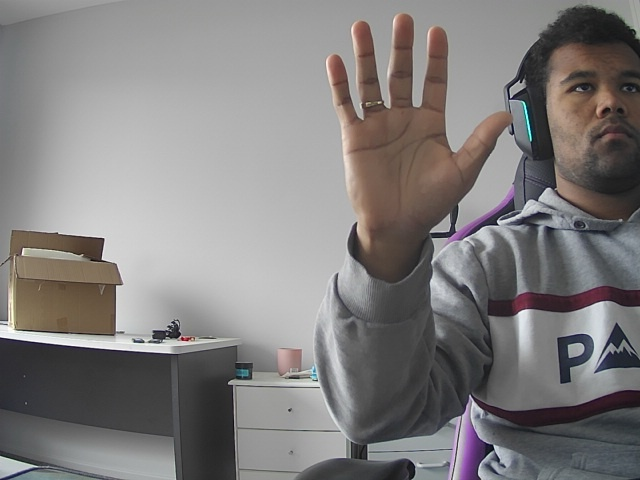Hello: (310, 9, 518, 238)
